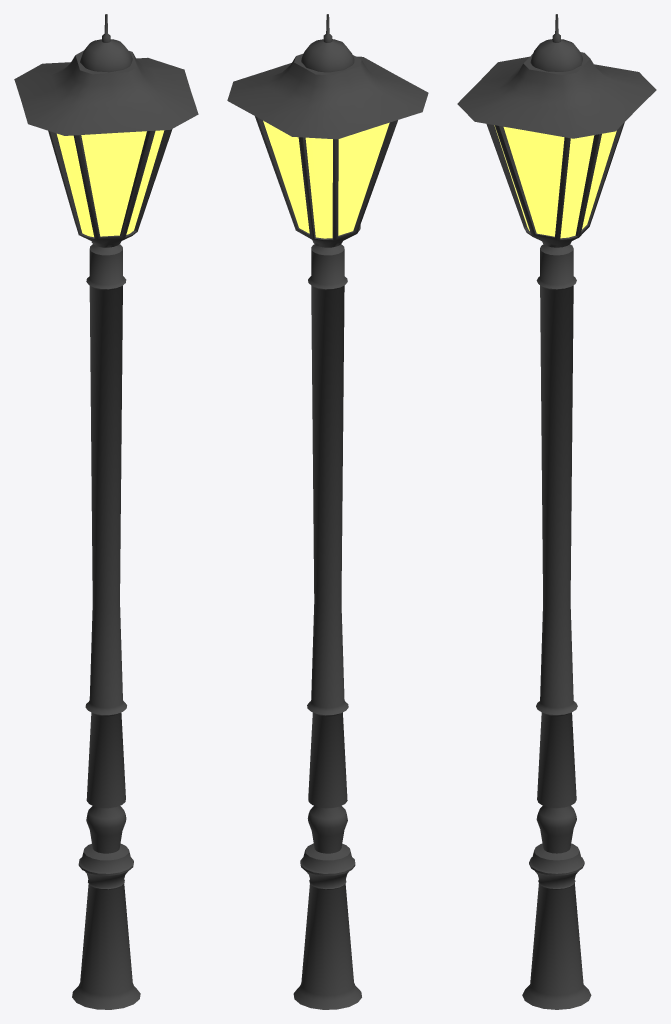
The model's file is LightPole.fbx.
3 views of the same model, side by side, from view 1: azimuth 30°, elevation 25°; view 2: azimuth 150°, elevation 25°; view 3: azimuth 270°, elevation 25° (orthographic).
Visible parts, largest first — view 1: LightPole; view 2: LightPole; view 3: LightPole.
Part boxes in pixels (x1,y1,x2,y2): LightPole: [14, 14, 198, 1009]; LightPole: [227, 14, 428, 1009]; LightPole: [457, 14, 656, 1009].
Size of the model in its own units: 34.62 by 188 by 34.62.
